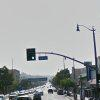Traffic light: (22, 43, 40, 62)
